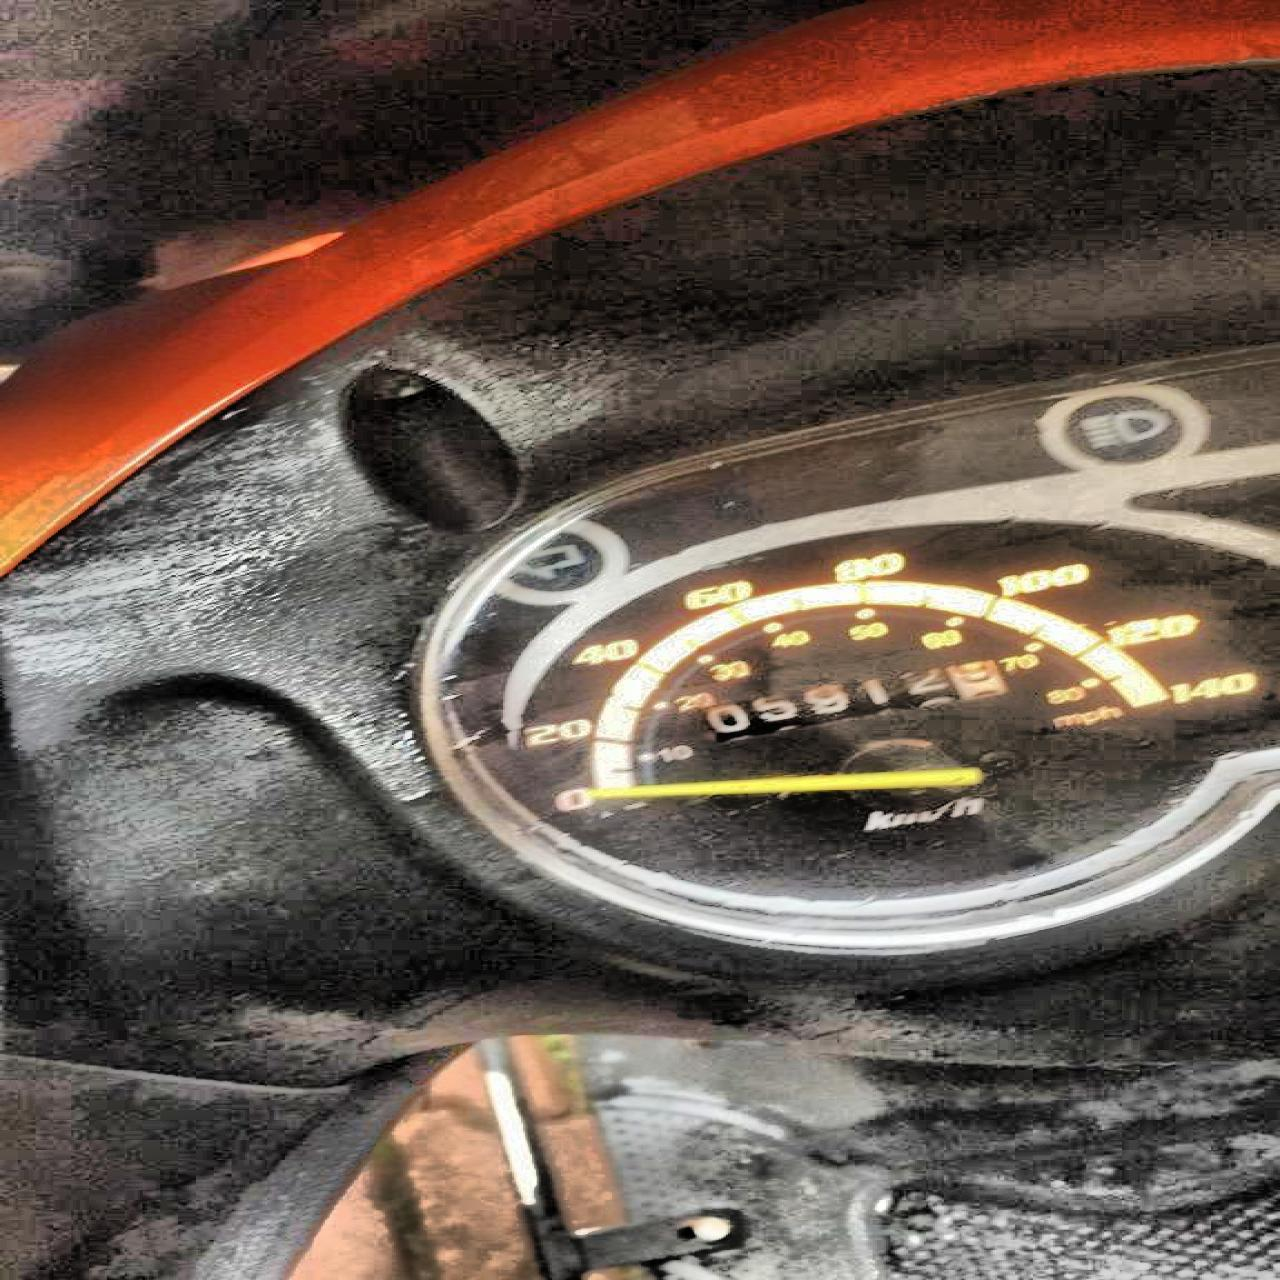0: (706, 702, 750, 733), (728, 659, 750, 678), (689, 693, 713, 707)
1: (862, 678, 891, 708)
2: (897, 667, 951, 694)
3: (706, 663, 728, 681)
5: (753, 693, 799, 722)
7: (995, 655, 1013, 670)
9: (802, 682, 855, 714), (953, 660, 990, 682)
odometer: (688, 655, 1013, 745)
